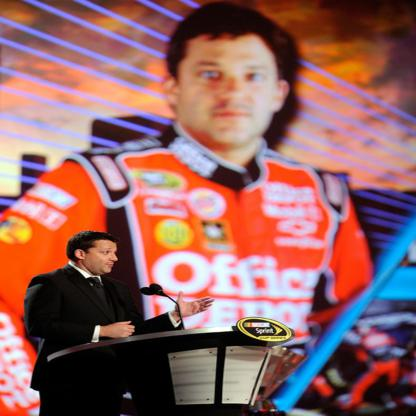face: (178, 21, 282, 144), (88, 238, 120, 275)
